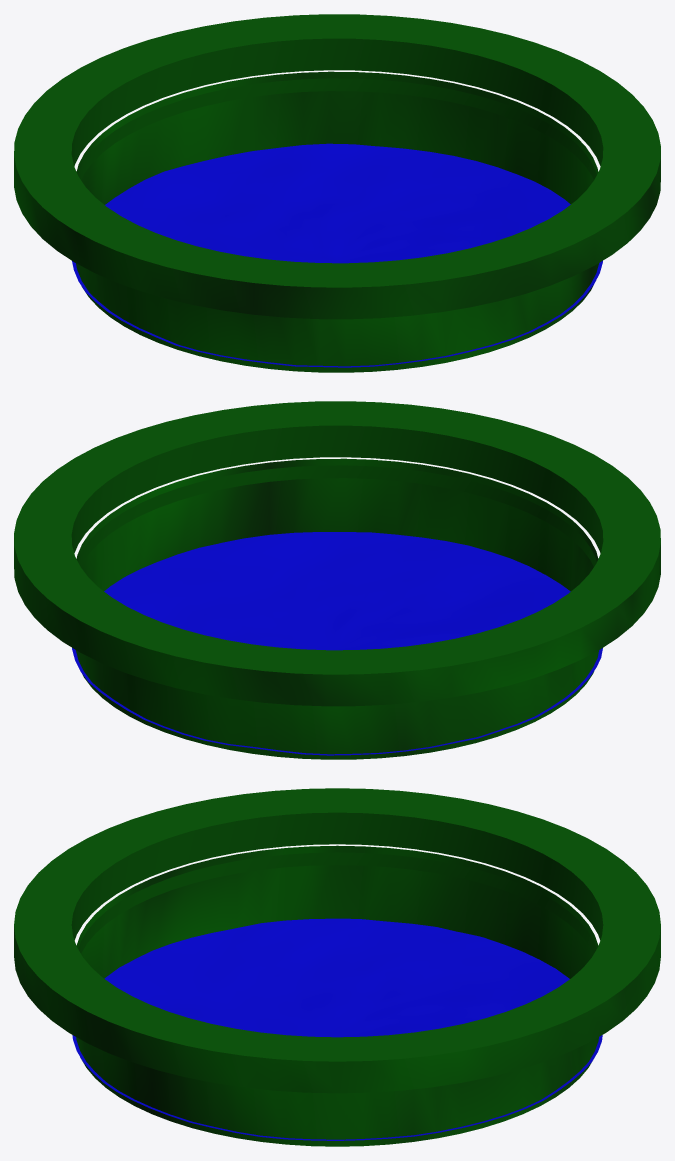
File: shrine_side_pool.glb
3 views of the same model, one above another, from view 1: azimuth 30°, elevation 25°; view 2: azimuth 150°, elevation 25°; view 3: azimuth 270°, elevation 25° (orthographic).
Visible parts, largest first — view 1: shrine_side_pool; view 2: shrine_side_pool; view 3: shrine_side_pool.
Boxes of the visible parts, left/top/right/bottom form: shrine_side_pool: left=14, top=14, right=660, bottom=372; shrine_side_pool: left=14, top=401, right=660, bottom=759; shrine_side_pool: left=14, top=788, right=660, bottom=1146.
Size of what is drawn, in the model's own units: 3.7 by 0.703 by 3.7.
